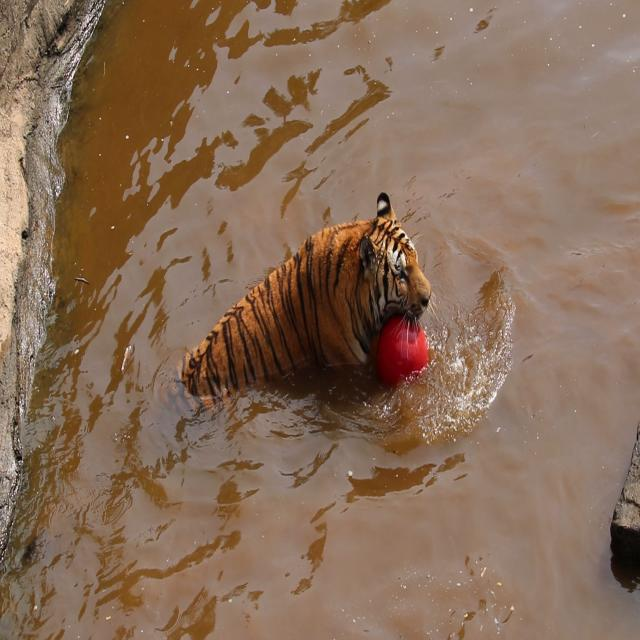Tiger: (157, 186, 493, 488)
